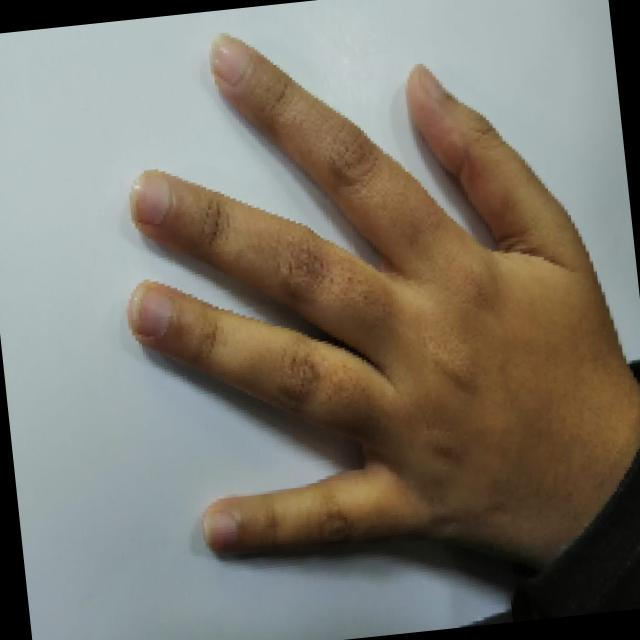Nail: (127, 281, 172, 336), (129, 170, 170, 224), (210, 33, 249, 81), (202, 511, 238, 550), (419, 66, 444, 98)
